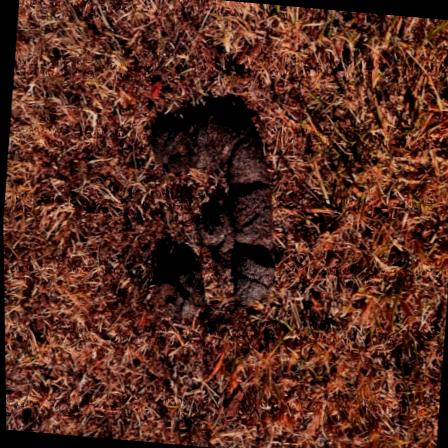dog-poop: (132, 95, 286, 314)
